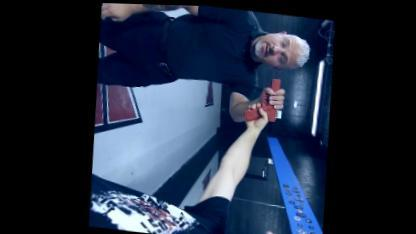pistol: (242, 72, 283, 123)
